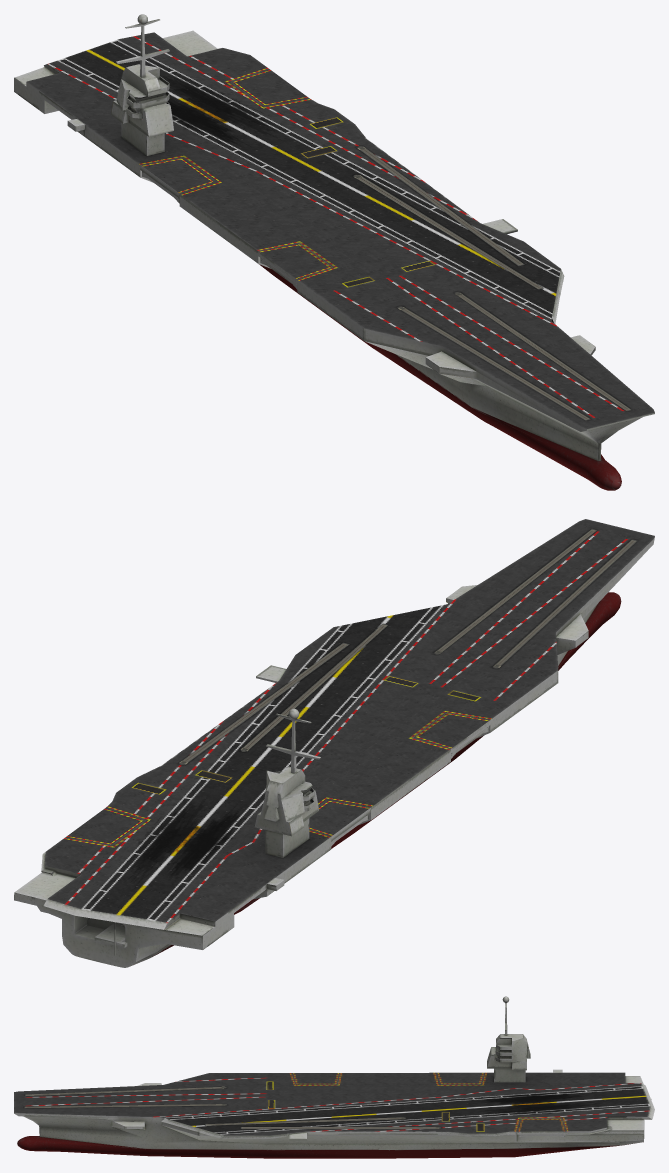
3 views of the same model, one above another, from view 1: azimuth 30°, elevation 25°; view 2: azimuth 150°, elevation 25°; view 3: azimuth 270°, elevation 25° (orthographic). The views are drawn at different scales.
Parts seen in each view (by area): view 1: Gerald Body, Elevator2, Elevator1, Elevator3; view 2: Gerald Body, Elevator1, Elevator2, Elevator3; view 3: Gerald Body, Elevator3, Elevator2, Elevator1.
Boxes of the visible parts, box(x1,y1,x2,y2) form: Gerald Body: box(14, 14, 654, 490); Elevator2: box(140, 157, 215, 203); Elevator1: box(258, 243, 332, 289); Elevator3: box(231, 69, 309, 106); Gerald Body: box(14, 519, 654, 967); Elevator1: box(413, 712, 490, 758); Elevator2: box(309, 799, 370, 846); Elevator3: box(65, 807, 145, 845); Gerald Body: box(14, 996, 654, 1158); Elevator3: box(517, 1118, 566, 1136); Elevator2: box(436, 1072, 484, 1084); Elevator1: box(292, 1073, 339, 1084).
Bounding box in the file's own units: 1336 × 1188 × 5290.
Materials: 1 (1 with a texture image).
